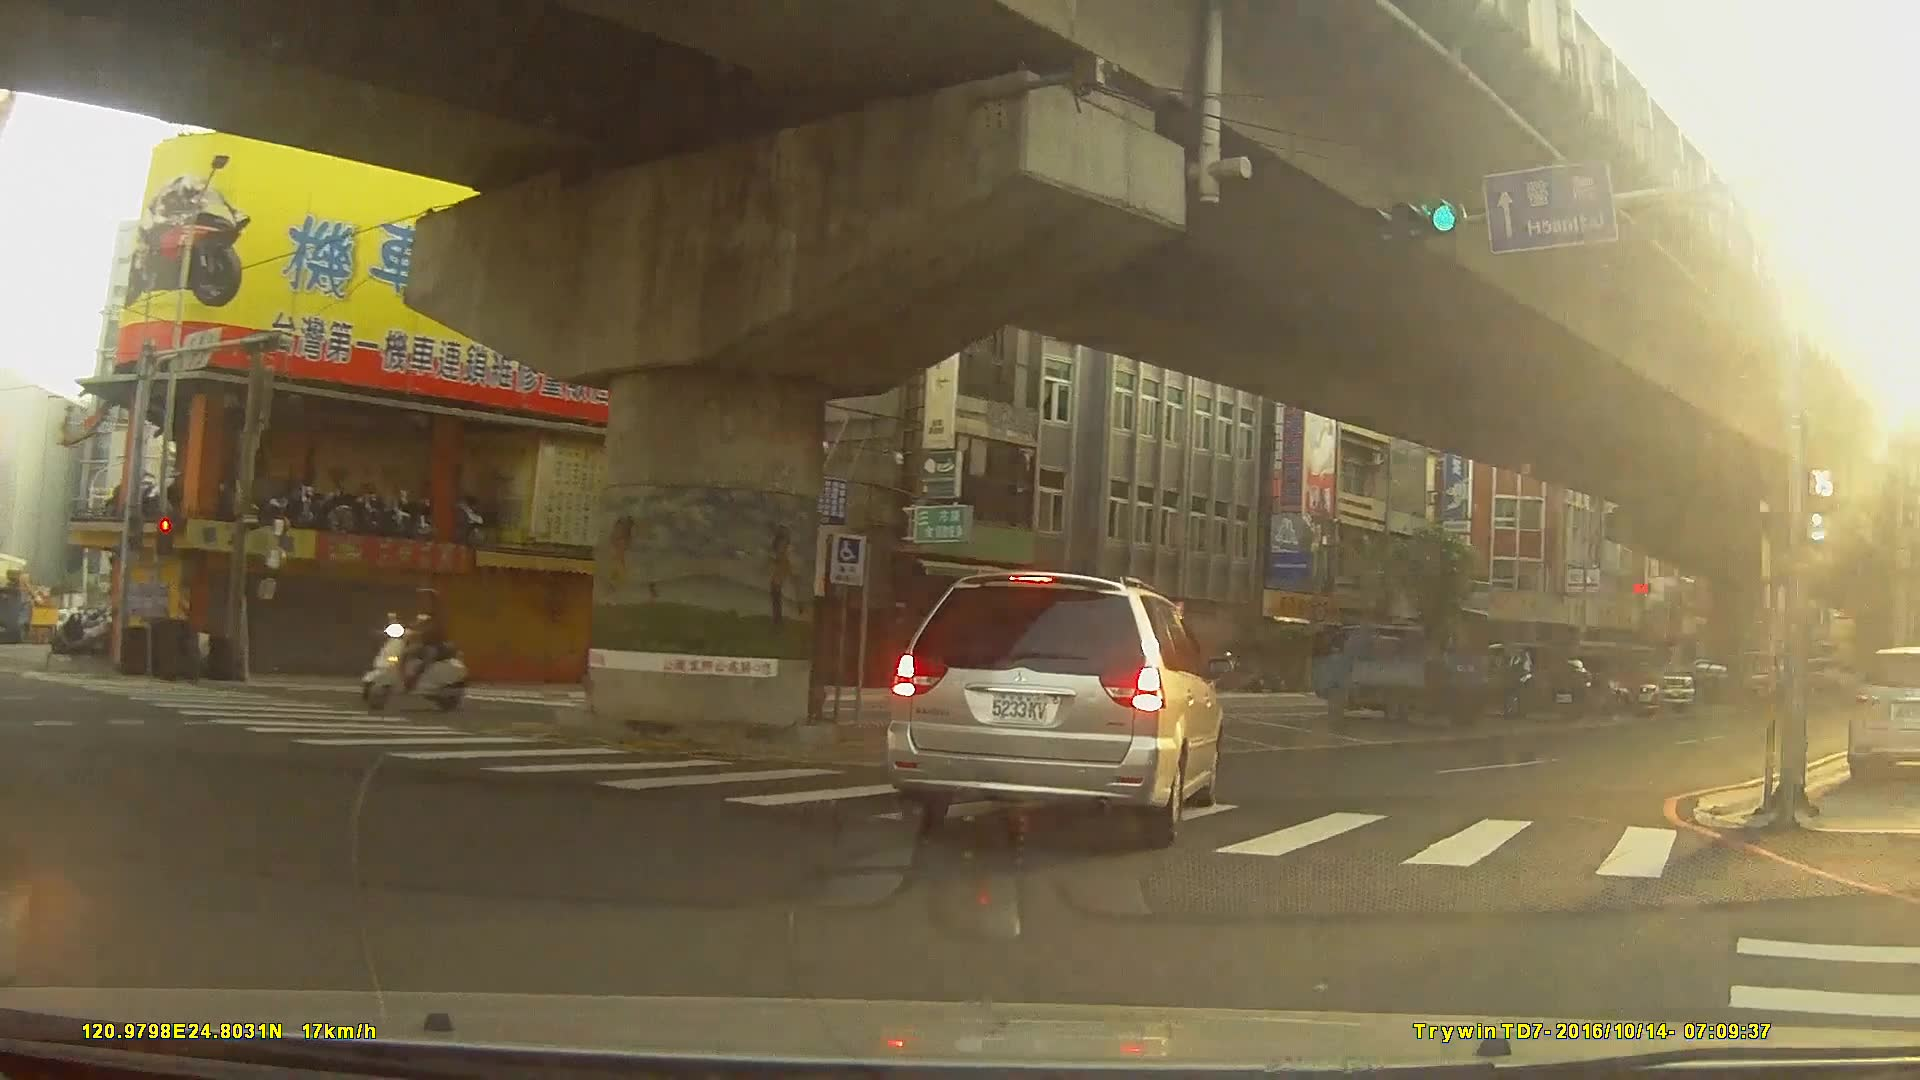rider: (367, 583, 476, 707)
vehicle: (881, 564, 1223, 845), (1307, 621, 1503, 728), (1458, 637, 1593, 719), (1846, 640, 1920, 777), (1543, 649, 1663, 716), (1666, 655, 1745, 697)
